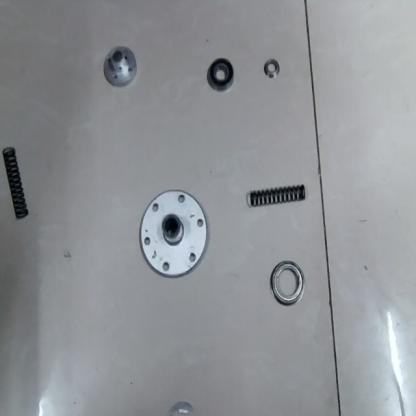FOD: (137, 187, 209, 283), (1, 142, 30, 225), (244, 179, 309, 210), (101, 43, 138, 92), (268, 262, 306, 306), (203, 55, 236, 95), (262, 55, 281, 81)
